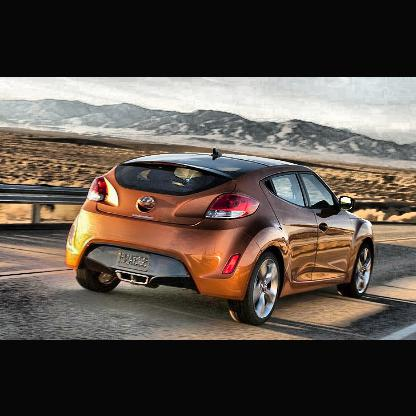Hyundai Veloster Hatchback 2012: (64, 147, 376, 325)
